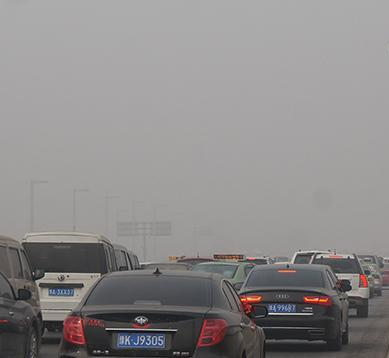car: (54, 266, 269, 358), (19, 229, 129, 345), (230, 262, 354, 350), (180, 261, 275, 334), (1, 234, 47, 344), (299, 250, 371, 320), (279, 247, 349, 317), (132, 261, 202, 317), (1, 271, 43, 358), (98, 243, 143, 317)
